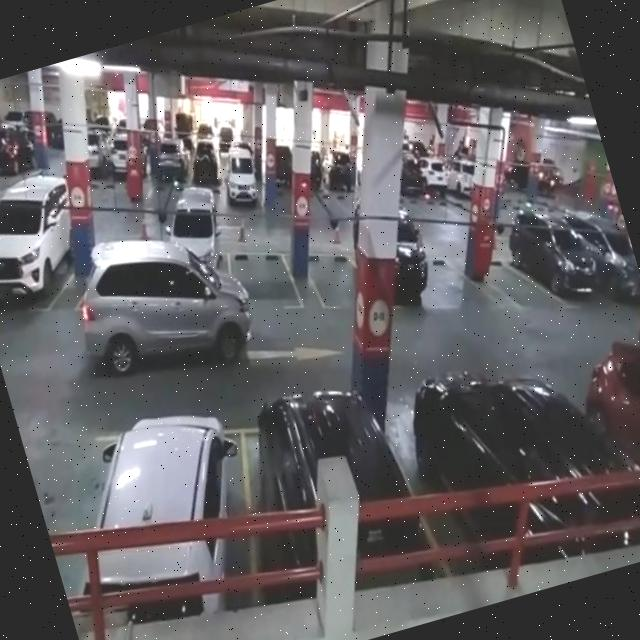empty: (15, 394, 131, 550), (211, 230, 311, 328), (292, 236, 373, 322)
occupied: (404, 318, 630, 565), (245, 358, 428, 598), (76, 391, 270, 564), (0, 172, 101, 334)
